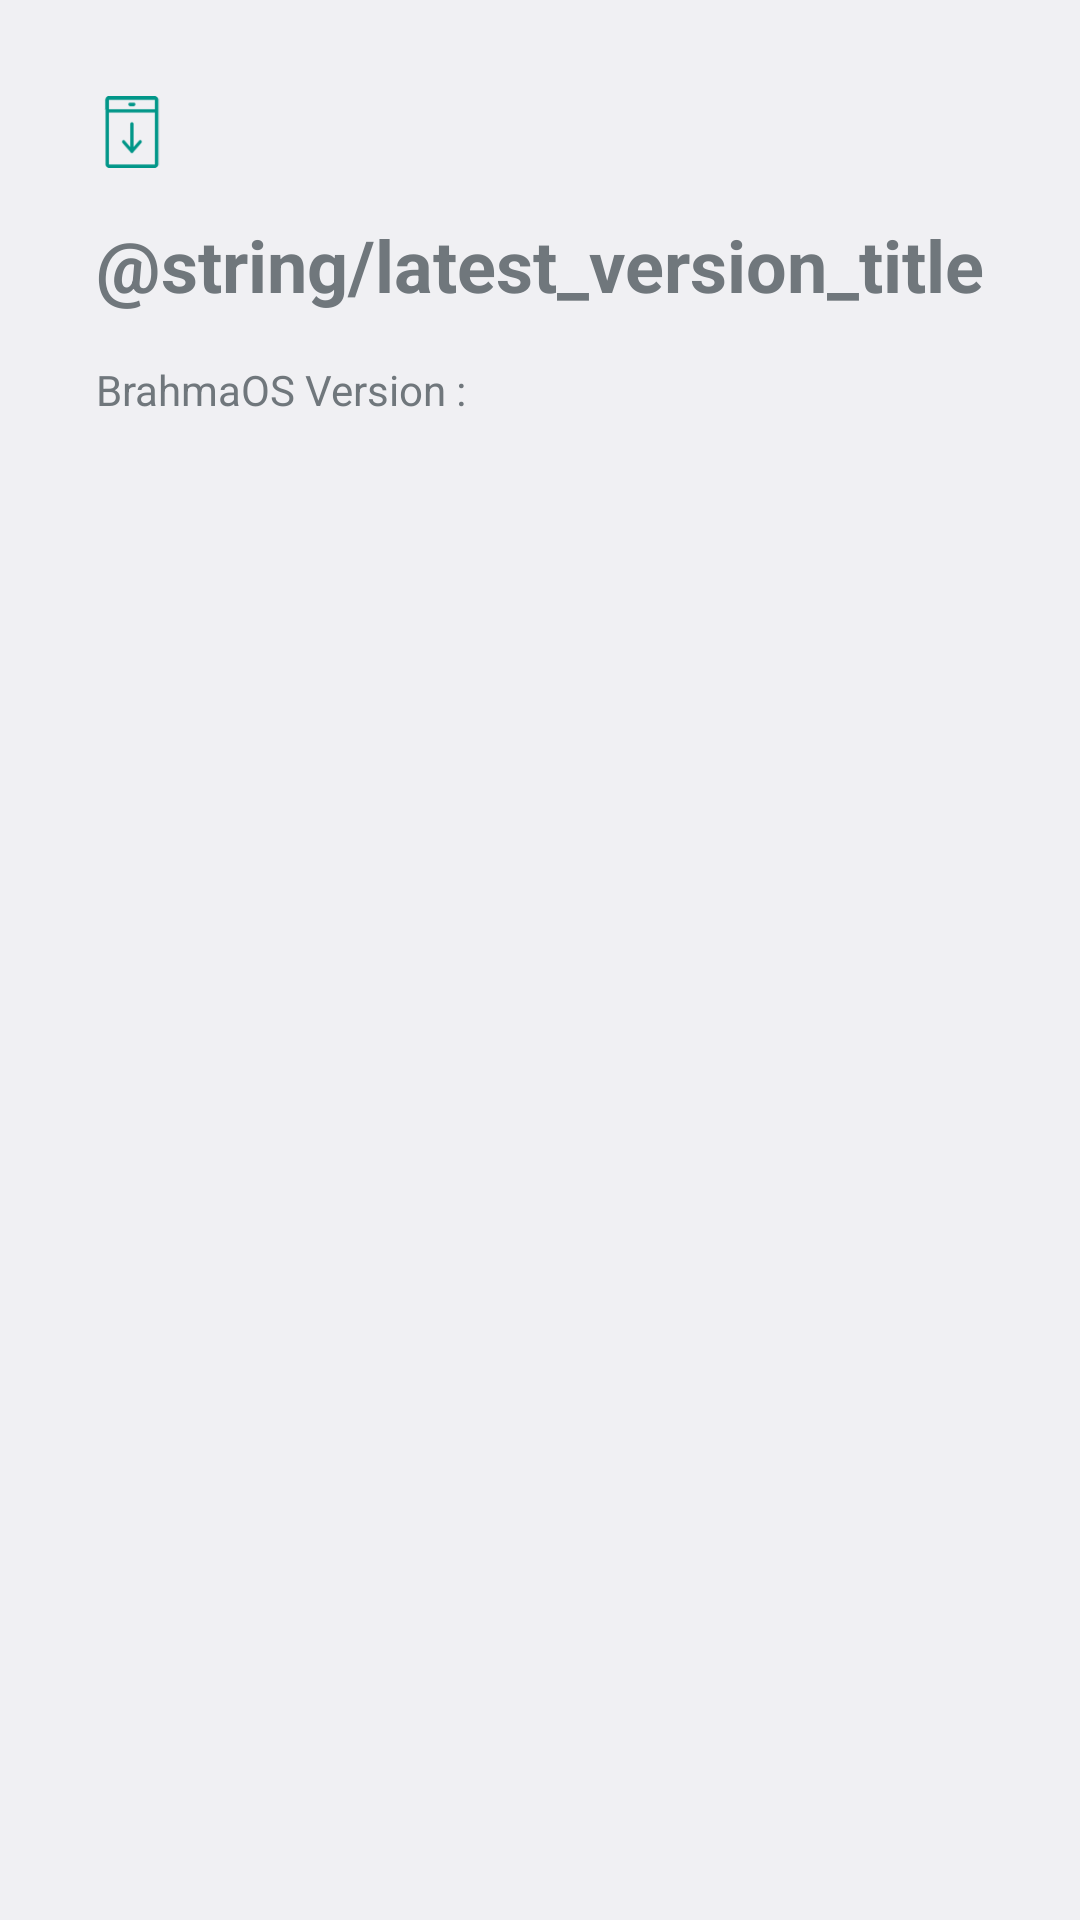

Screen size 1080×1920. Icon name, then its center in pixels as (x,y):
update: (132,132)
